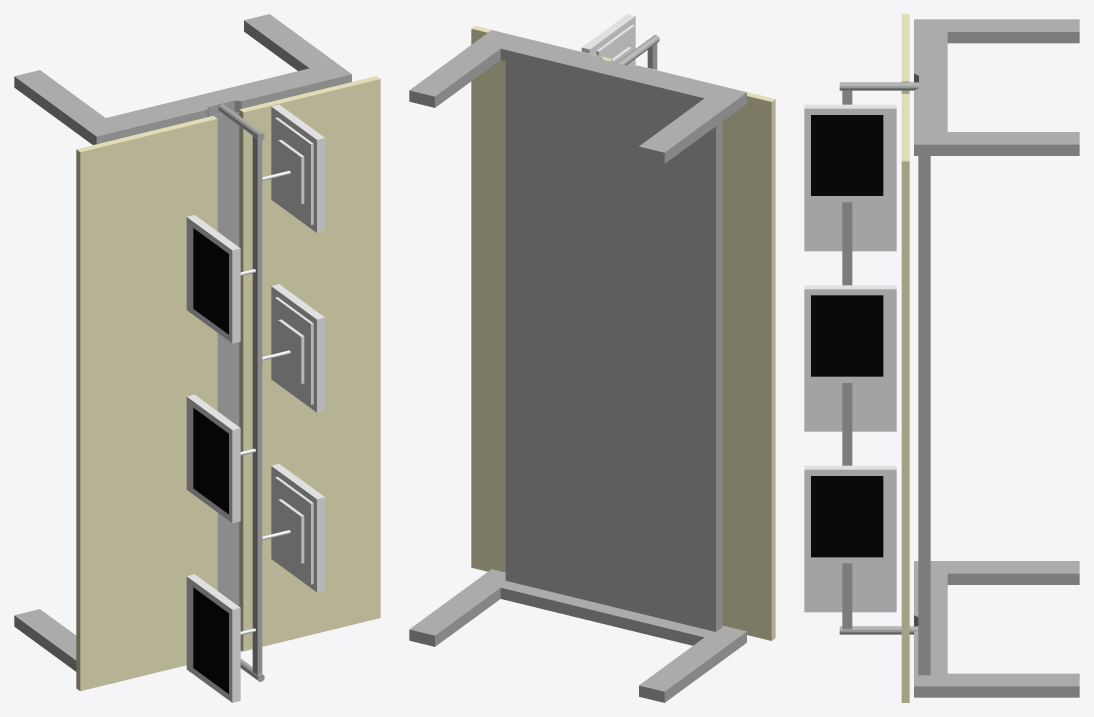
Rendered from nil_link_mesh.dae.
3 renders of one model, left to right at view 1: azimuth 30°, elevation 25°; view 2: azimuth 150°, elevation 25°; view 3: azimuth 270°, elevation 25°, orthographic.
Parts seen in each view (by area): view 1: nil_link (×21); view 2: nil_link (×7); view 3: nil_link (×23).
Boxes of the visible parts, bbox=[...] form: nil_link (×21): bbox=[14, 14, 380, 702]; nil_link (×7): bbox=[409, 14, 775, 702]; nil_link (×23): bbox=[804, 14, 1079, 702].
Bounding box in the file's own units: 1.4 × 2.45 × 1.11.
